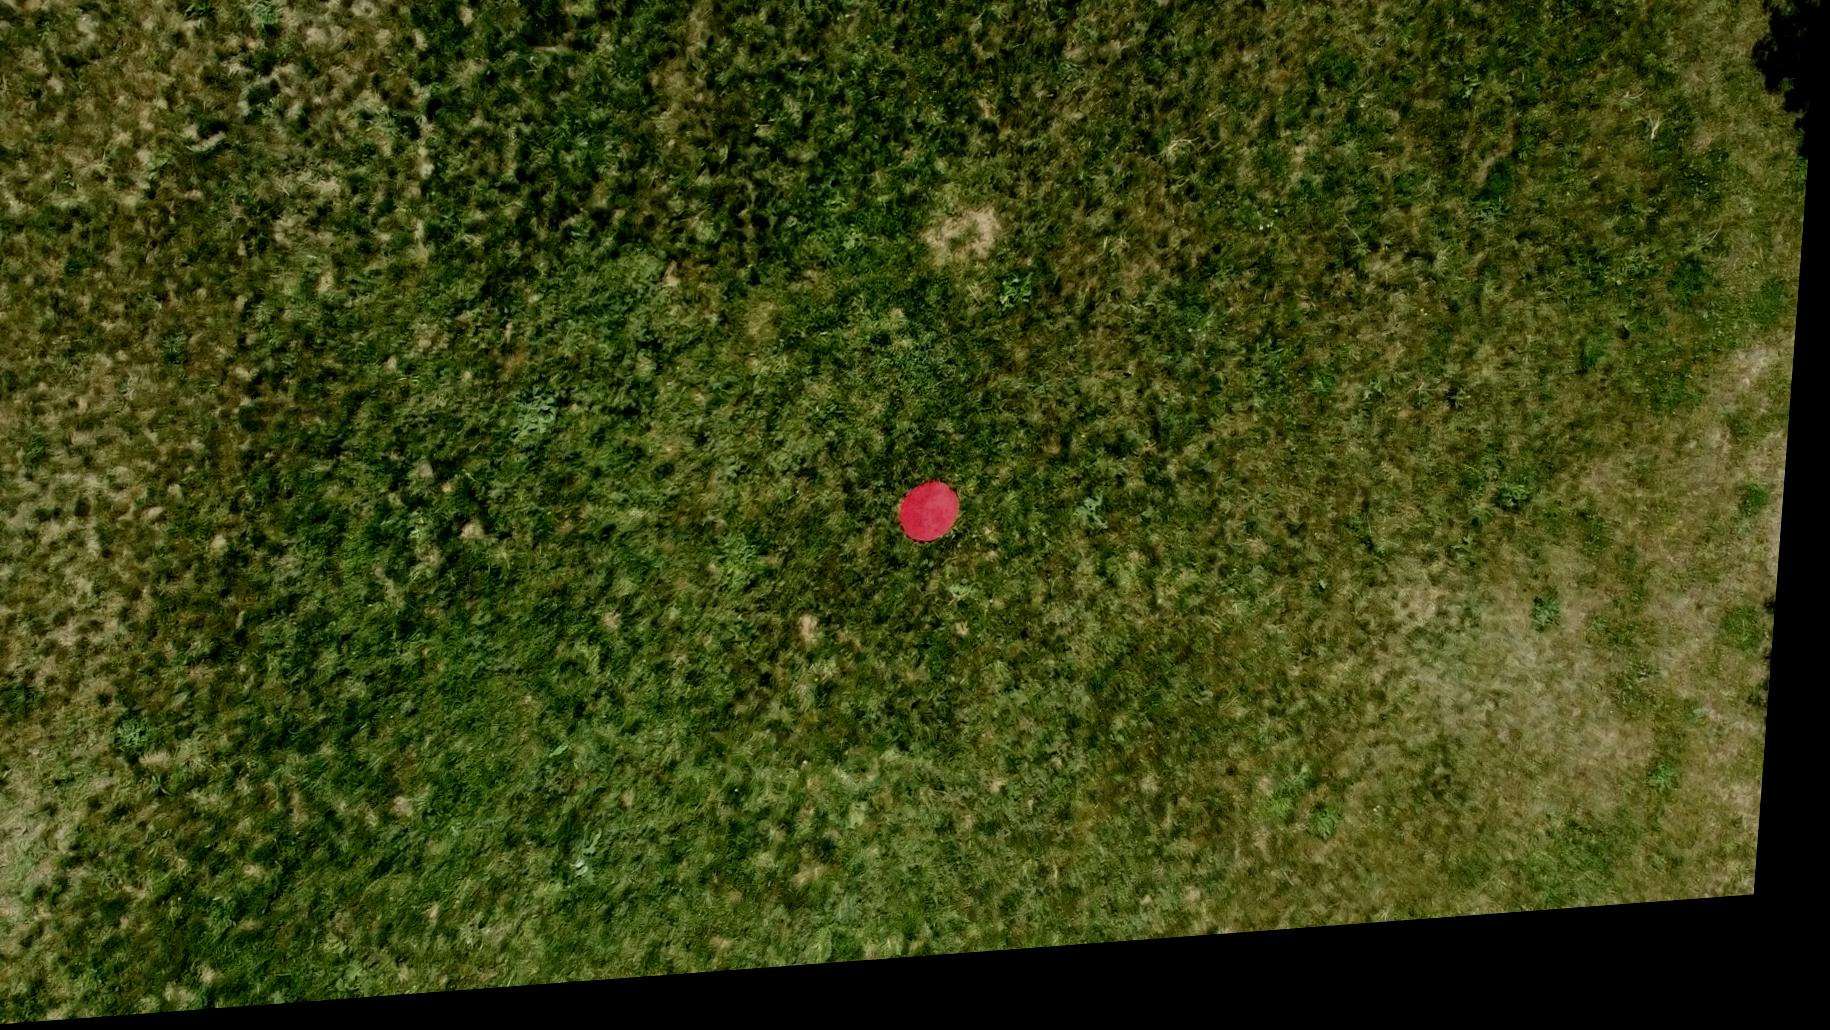Red: (905, 493, 973, 563)
